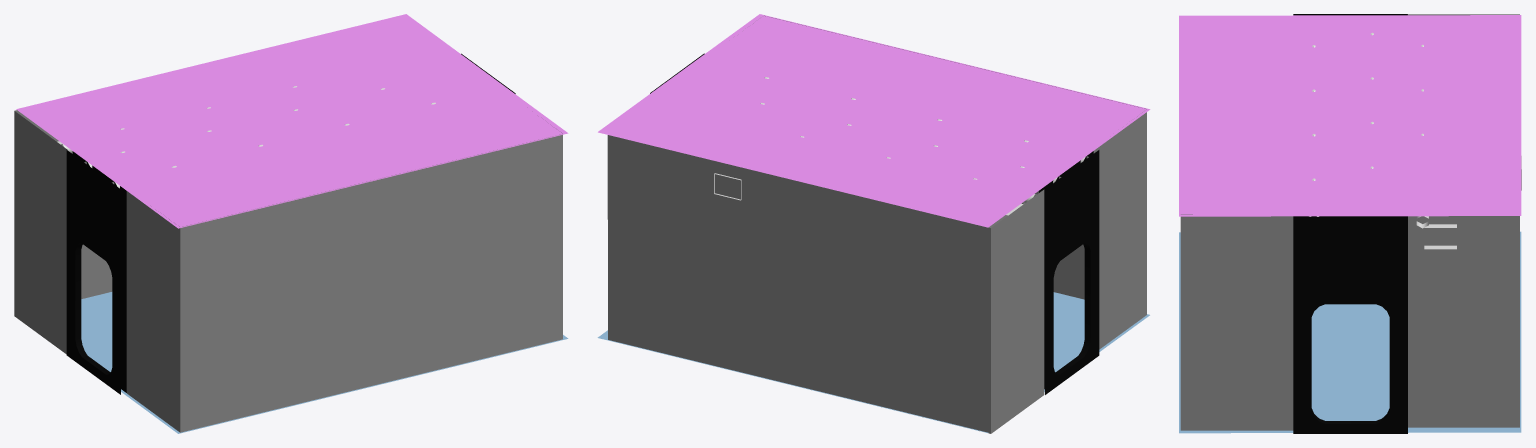
File: captian's quarters.FBX
3 renders of one model, left to right at view 1: azimuth 30°, elevation 25°; view 2: azimuth 150°, elevation 25°; view 3: azimuth 270°, elevation 25°, orthographic. The views are drawn at different scales.
Parts seen in each view (by area): view 1: Object115, Box028, Object116, Object118; view 2: Object116, Box028, Object115, Object118; view 3: Box028, Object115, Object116, Object117.
Part boxes in pixels (<box>): Object115: <box>126,132,562,432</box>; Box028: <box>16,14,568,433</box>; Object116: <box>14,110,112,354</box>; Object118: <box>66,150,126,394</box>; Object116: <box>607,135,1044,433</box>; Box028: <box>597,14,1150,432</box>; Object115: <box>753,15,1146,349</box>; Object118: <box>1039,150,1099,394</box>; Box028: <box>1179,15,1521,433</box>; Object115: <box>1180,214,1293,430</box>; Object116: <box>1407,14,1519,427</box>; Object117: <box>1293,216,1407,433</box>.
Bounding box in the file's own units: 61.78 × 30.92 × 44.09.
